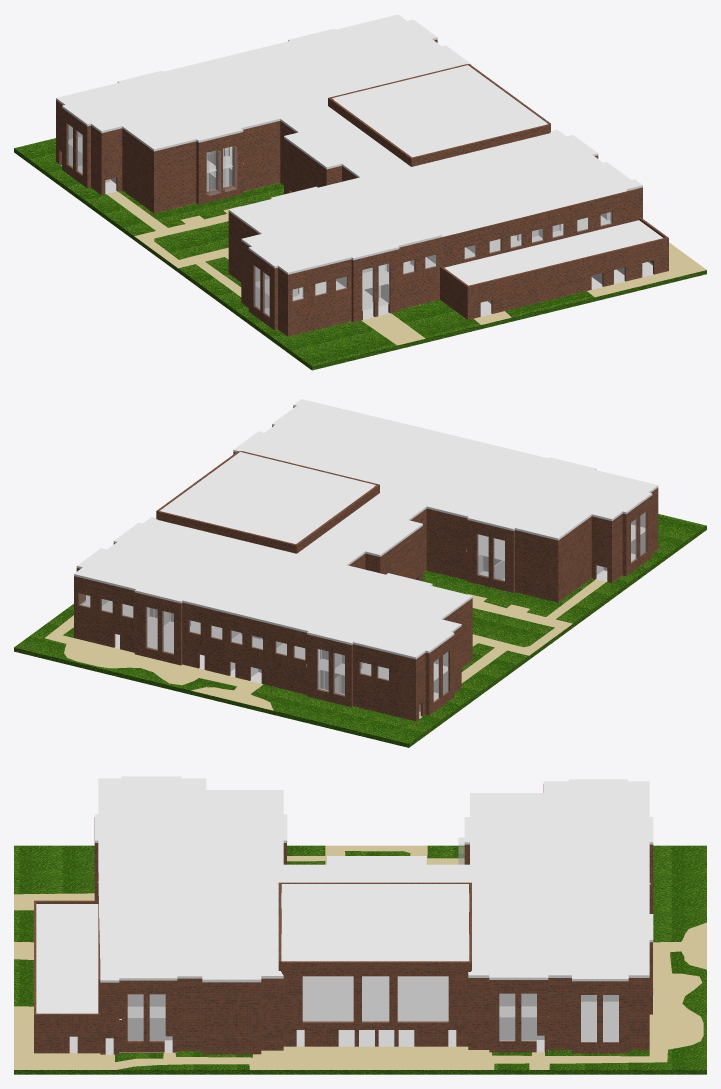
File: College.glb
3 renders of one model, top to bottom at view 1: azimuth 30°, elevation 25°; view 2: azimuth 150°, elevation 25°; view 3: azimuth 270°, elevation 25°, orthographic. The views are drawn at different scales.
Parts seen in each view (by area): view 1: Roof, Walls, Ground, Windows, Gym Walls, 2nd Floor, Int Walls, Foundation, Int Walls 2nd Flr; view 2: Roof, Walls, Ground, Windows, Gym Walls, 2nd Floor, Int Walls, Foundation, Int Walls 2nd Flr; view 3: Roof, Ground, Walls, 2nd Floor, Gym Windows, Windows, Foundation, Int Walls, Gym Walls.
Boxes of the visible parts, left/top/right/bottom form: Roof: left=56, top=14, right=662, bottom=285; Walls: left=56, top=39, right=668, bottom=336; Ground: left=14, top=138, right=706, bottom=370; Windows: left=67, top=124, right=611, bottom=316; Gym Walls: left=328, top=64, right=550, bottom=166; 2nd Floor: left=68, top=136, right=610, bottom=300; Int Walls: left=68, top=125, right=624, bottom=308; Foundation: left=60, top=165, right=653, bottom=319; Int Walls 2nd Flr: left=206, top=147, right=611, bottom=297; Roof: left=74, top=399, right=658, bottom=659; Walls: left=74, top=407, right=658, bottom=721; Ground: left=14, top=514, right=706, bottom=747; Windows: left=79, top=512, right=646, bottom=701; Gym Walls: left=158, top=451, right=379, bottom=553; 2nd Floor: left=80, top=524, right=645, bottom=680; Int Walls: left=230, top=513, right=645, bottom=712; Foundation: left=114, top=553, right=635, bottom=718; Int Walls 2nd Flr: left=102, top=599, right=363, bottom=668; Roof: left=36, top=776, right=653, bottom=1013; Ground: left=14, top=845, right=706, bottom=1074; Walls: left=34, top=784, right=653, bottom=1054; 2nd Floor: left=97, top=882, right=650, bottom=1019; Gym Windows: left=303, top=976, right=448, bottom=1021; Windows: left=128, top=838, right=618, bottom=1042; Foundation: left=69, top=989, right=653, bottom=1054; Int Walls: left=127, top=993, right=544, bottom=1040; Gym Walls: left=278, top=882, right=471, bottom=970.
Size of the model in its own units: 60.96 by 11.58 by 79.67.
Materials: 5 (2 with a texture image).
